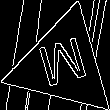M_S: (34, 34, 92, 95)
